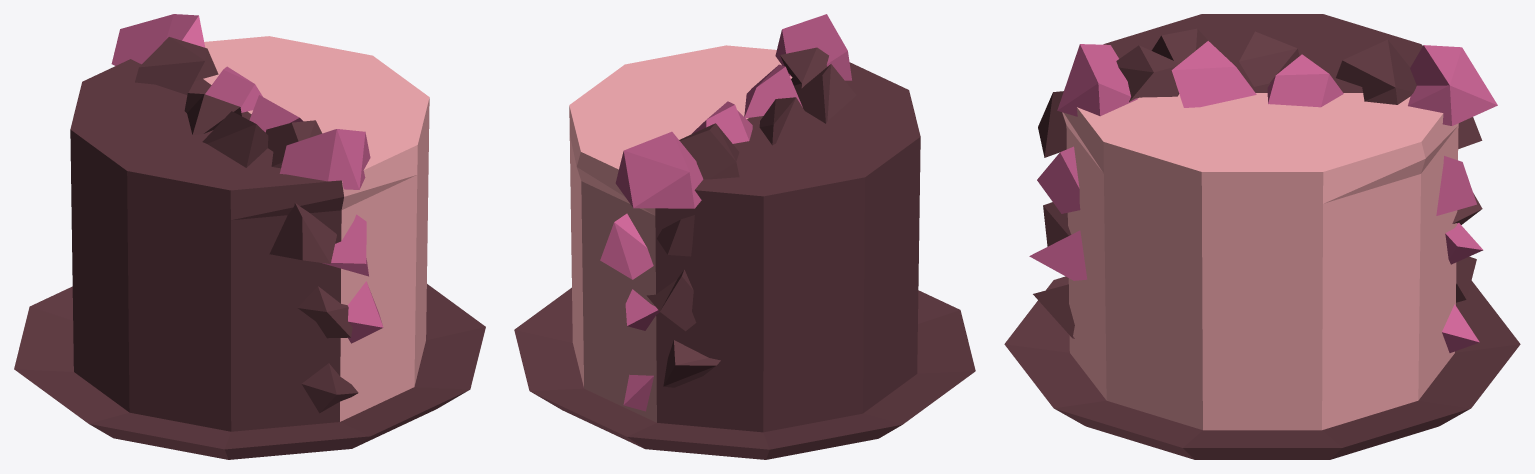
The model's file is cake-gender-reveal.fbx.
3 views of the same model, side by side, from view 1: azimuth 30°, elevation 25°; view 2: azimuth 150°, elevation 25°; view 3: azimuth 270°, elevation 25° (orthographic). The views are drawn at different scales.
Visible parts, largest first — view 1: cake-gender-reveal; view 2: cake-gender-reveal; view 3: cake-gender-reveal.
Boxes of the visible parts, box(x1,y1,x2,y2) form: cake-gender-reveal: box(14, 14, 485, 459); cake-gender-reveal: box(514, 14, 975, 459); cake-gender-reveal: box(1004, 14, 1520, 459).
Size of the model in its own units: 0.4783 by 0.3535 by 0.503.
